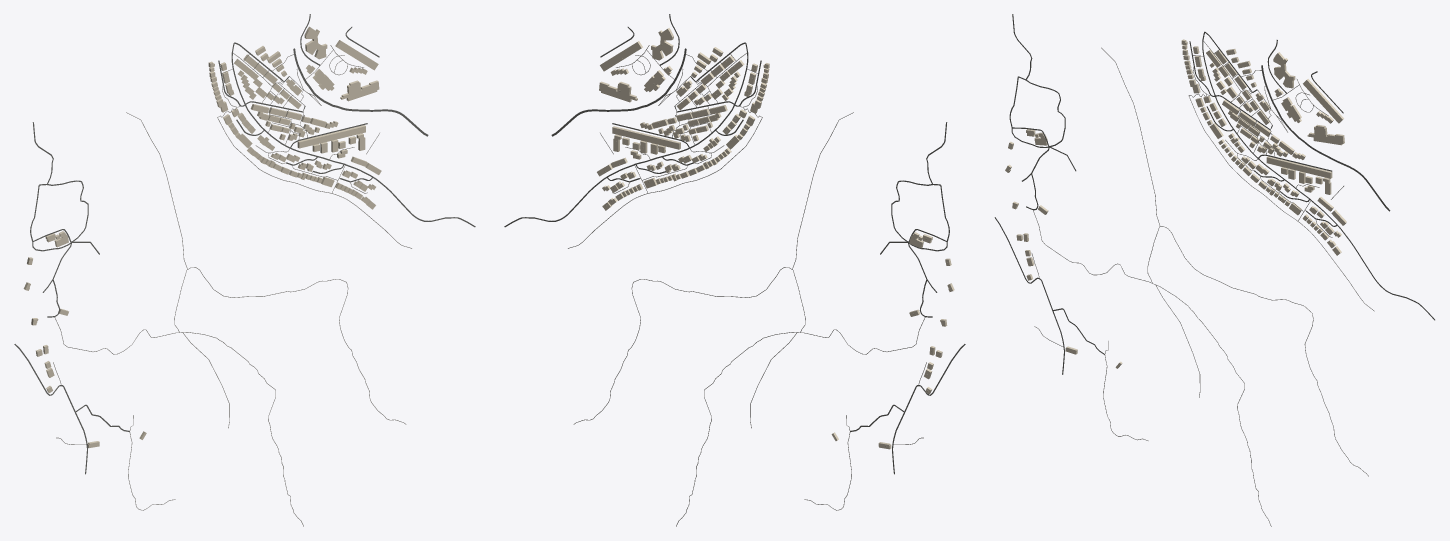
File: historic-palestine-10_24_3518_3181.glb
3 views of the same model, side by side, from view 1: azimuth 30°, elevation 25°; view 2: azimuth 150°, elevation 25°; view 3: azimuth 330°, elevation 25° (orthographic). The views are drawn at different scales.
Visible parts, largest first — view 1: Road .017, Road ישראל זרחי, Building_.025; view 2: Road .017, Road ישראל זרחי, Building_.025; view 3: Road .017, Road ישראל זרחי, Building_.025.
Part boxes in pixels (bbox=[...]): Road .017: bbox=[174, 267, 406, 526]; Road ישראל זרחי: bbox=[231, 43, 475, 227]; Building_.025: bbox=[297, 125, 365, 148]; Road .017: bbox=[573, 267, 805, 526]; Road ישראל זרחי: bbox=[504, 43, 748, 227]; Building_.025: bbox=[612, 126, 680, 149]; Road .017: bbox=[1147, 226, 1368, 526]; Road ישראל זרחי: bbox=[1202, 32, 1434, 320]; Building_.025: bbox=[1266, 156, 1332, 178].
Size of the model in its own units: 1266 by 1341 by 8.7.
